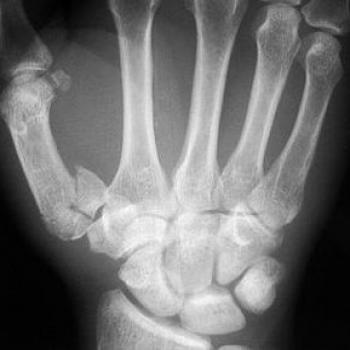Fracture: (61, 163, 117, 229)
